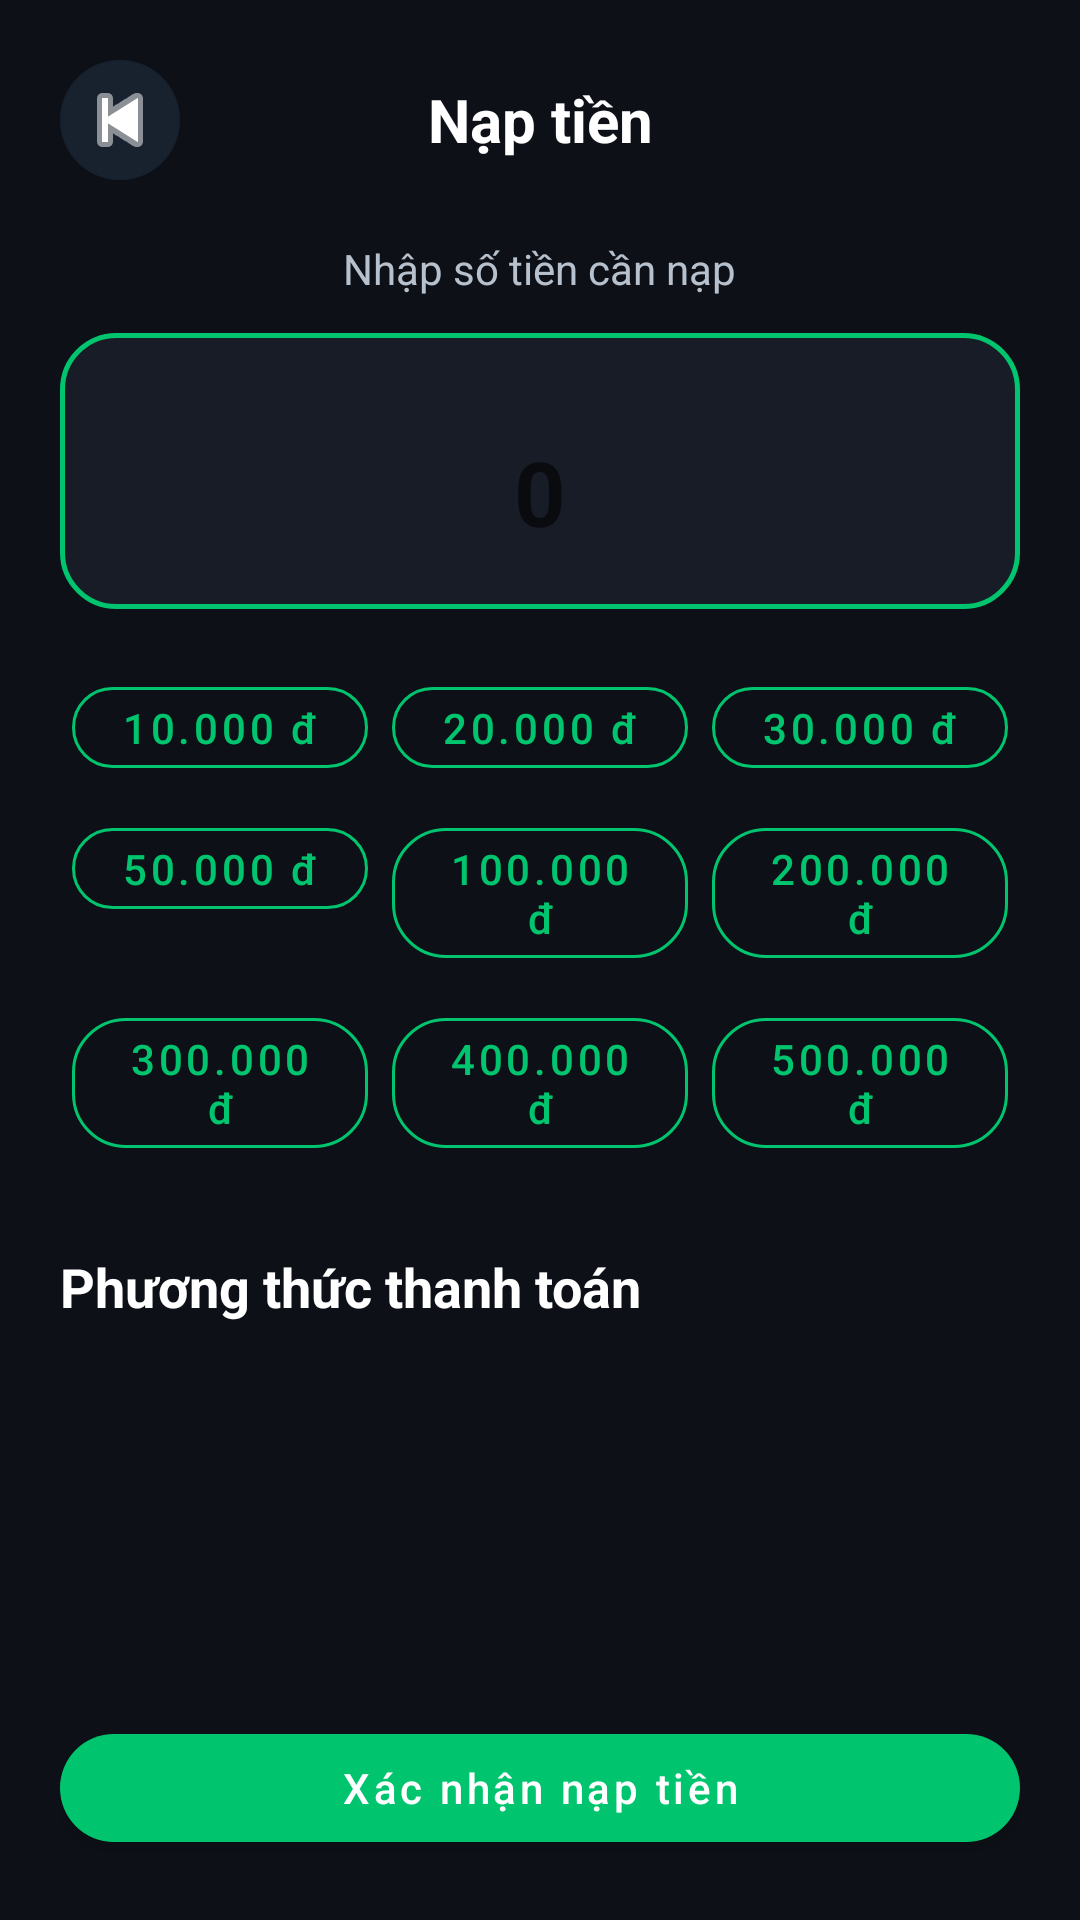

Where icons sit on this 1080w x 1920h app screen, as (x1, y1, x2, y2):
Quay lại: (97, 93, 143, 147)
